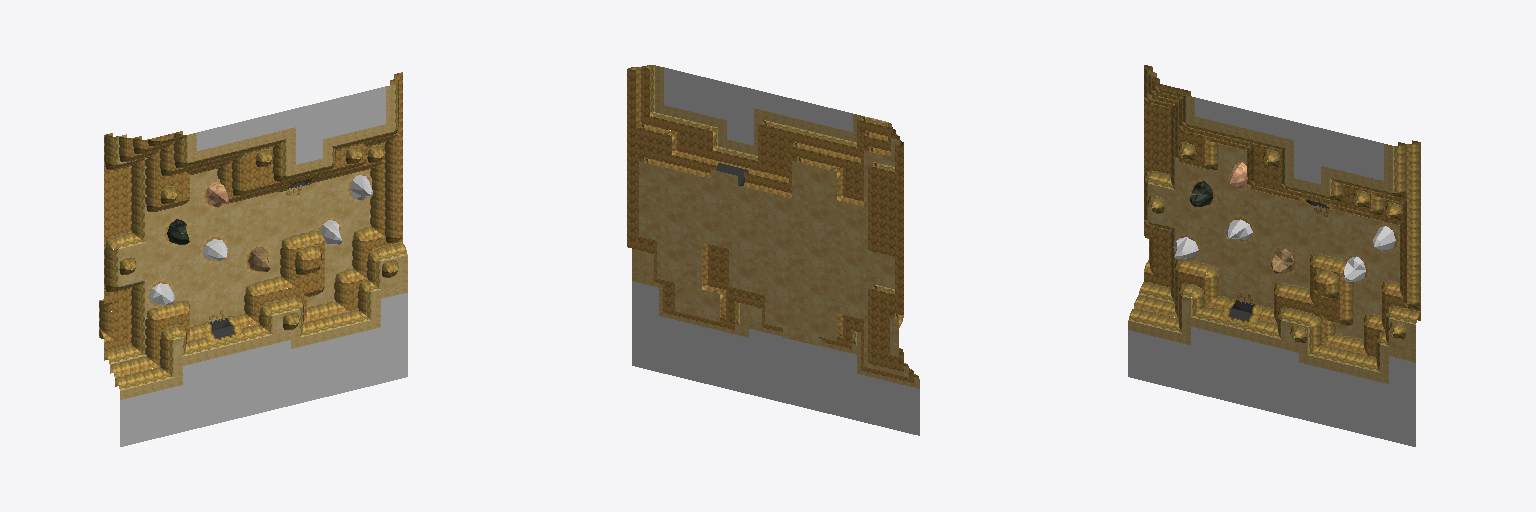
The picture shows the model from 3 angles: view 1: azimuth 30°, elevation 25°; view 2: azimuth 150°, elevation 25°; view 3: azimuth 330°, elevation 25°; orthographic projection.
Visible parts, largest first — view 1: map; view 2: map; view 3: map.
Boxes of the visible parts, x1,y1,x2,y2 form: map: [99, 72, 407, 446]; map: [627, 65, 919, 435]; map: [1128, 65, 1420, 446].
Size of the model in its own units: 32 by 32 by 5.
14 materials, 11 textured.